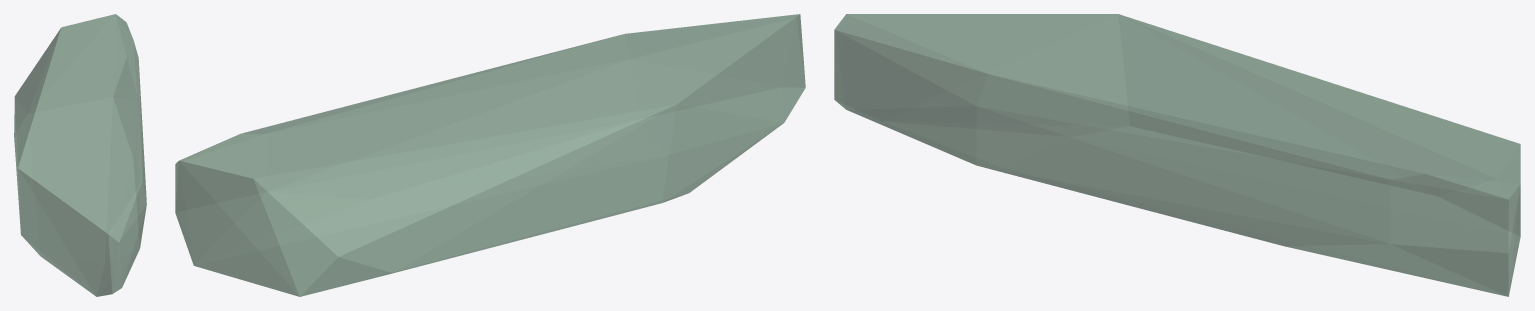
3 renders of one model, left to right at view 1: azimuth 30°, elevation 25°; view 2: azimuth 150°, elevation 25°; view 3: azimuth 270°, elevation 25°, orthographic. The views are drawn at different scales.
Visible parts, largest first — view 1: Shape_IndexedFaceSet.017_Shape_IndexedFaceSet.5893; view 2: Shape_IndexedFaceSet.017_Shape_IndexedFaceSet.5893; view 3: Shape_IndexedFaceSet.017_Shape_IndexedFaceSet.5893.
Boxes of the visible parts, x1,y1,x2,y2 form: Shape_IndexedFaceSet.017_Shape_IndexedFaceSet.5893: (14, 14, 146, 296); Shape_IndexedFaceSet.017_Shape_IndexedFaceSet.5893: (175, 14, 805, 296); Shape_IndexedFaceSet.017_Shape_IndexedFaceSet.5893: (834, 14, 1520, 296).
Size of the model in its own units: 0.0952 by 0.0299 by 0.1578.
